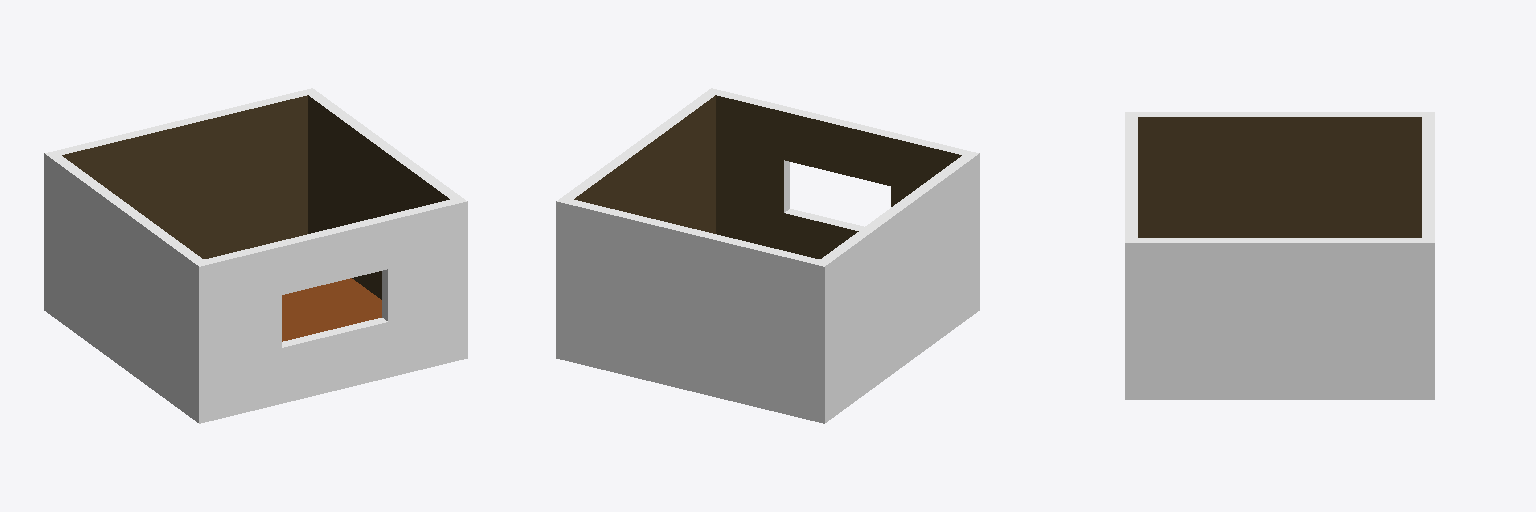
Rendered from roomtest.obj.
3 views of the same model, side by side, from view 1: azimuth 30°, elevation 25°; view 2: azimuth 150°, elevation 25°; view 3: azimuth 270°, elevation 25° (orthographic).
Parts seen in each view (by area): view 1: Mesh1 Model; view 2: Mesh1 Model; view 3: Mesh1 Model.
Boxes of the visible parts, x1=… form: Mesh1 Model: x1=44, y1=88, x2=467, y2=423; Mesh1 Model: x1=556, y1=88, x2=979, y2=423; Mesh1 Model: x1=1125, y1=112, x2=1434, y2=399.
Bounding box in the file's own units: 5 × 2.8 × 5.